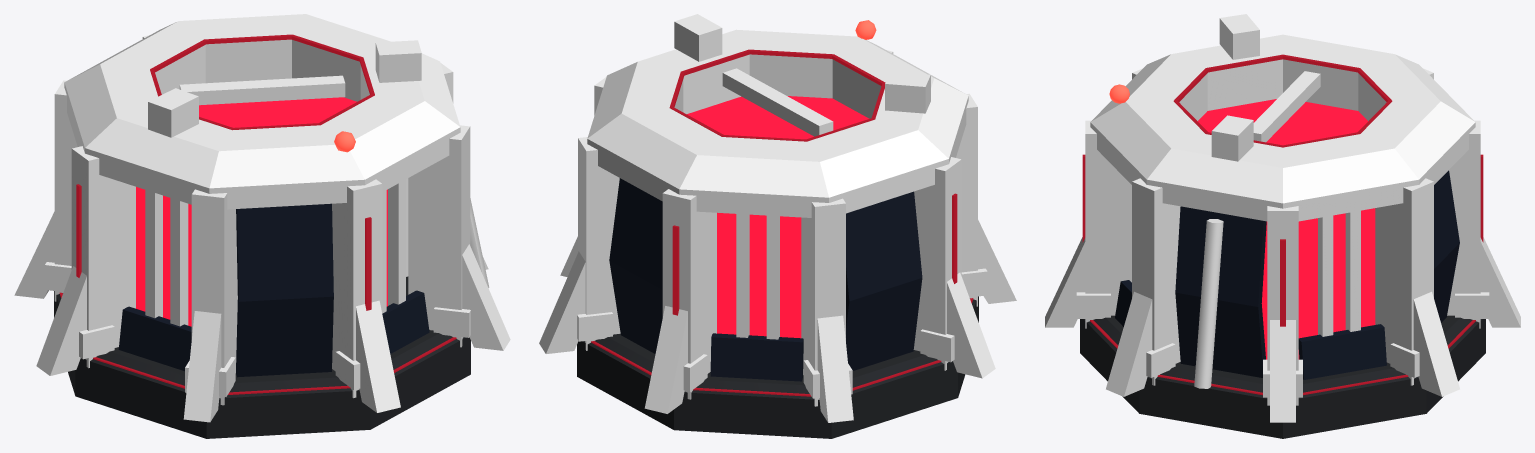
File: core_mid_a.gltf
3 renders of one model, left to right at view 1: azimuth 30°, elevation 25°; view 2: azimuth 150°, elevation 25°; view 3: azimuth 270°, elevation 25°, orthographic. The views are drawn at different scales.
Visible parts, largest first — view 1: gun, steel, plate, graphite, detail_steel, core, seam, detail_gun; view 2: gun, steel, plate, graphite, core, detail_steel, seam; view 3: gun, steel, plate, graphite, core, detail_steel, seam, detail_gun.
Part boxes in pixels (x1,y1,x2,y2): gun: (14, 35, 510, 422); steel: (64, 14, 460, 209); plate: (118, 203, 429, 377); graphite: (54, 276, 470, 438); detail_steel: (44, 40, 470, 396); core: (136, 97, 387, 326); seam: (59, 34, 456, 394); detail_gun: (470, 198, 489, 287); gun: (539, 50, 1016, 422); steel: (587, 29, 968, 217); plate: (609, 178, 922, 381); graphite: (577, 296, 978, 438); core: (687, 96, 869, 338); detail_steel: (577, 14, 987, 398); seam: (591, 49, 973, 396); gun: (1045, 68, 1520, 422); steel: (1090, 34, 1475, 221); plate: (1115, 170, 1459, 379); graphite: (1080, 315, 1485, 438); core: (1197, 99, 1375, 359); detail_steel: (1076, 14, 1489, 397); seam: (1082, 54, 1483, 395); detail_gun: (1194, 219, 1223, 388).
Bounding box in the file's own units: 8.3 × 5.35 × 8.3.
